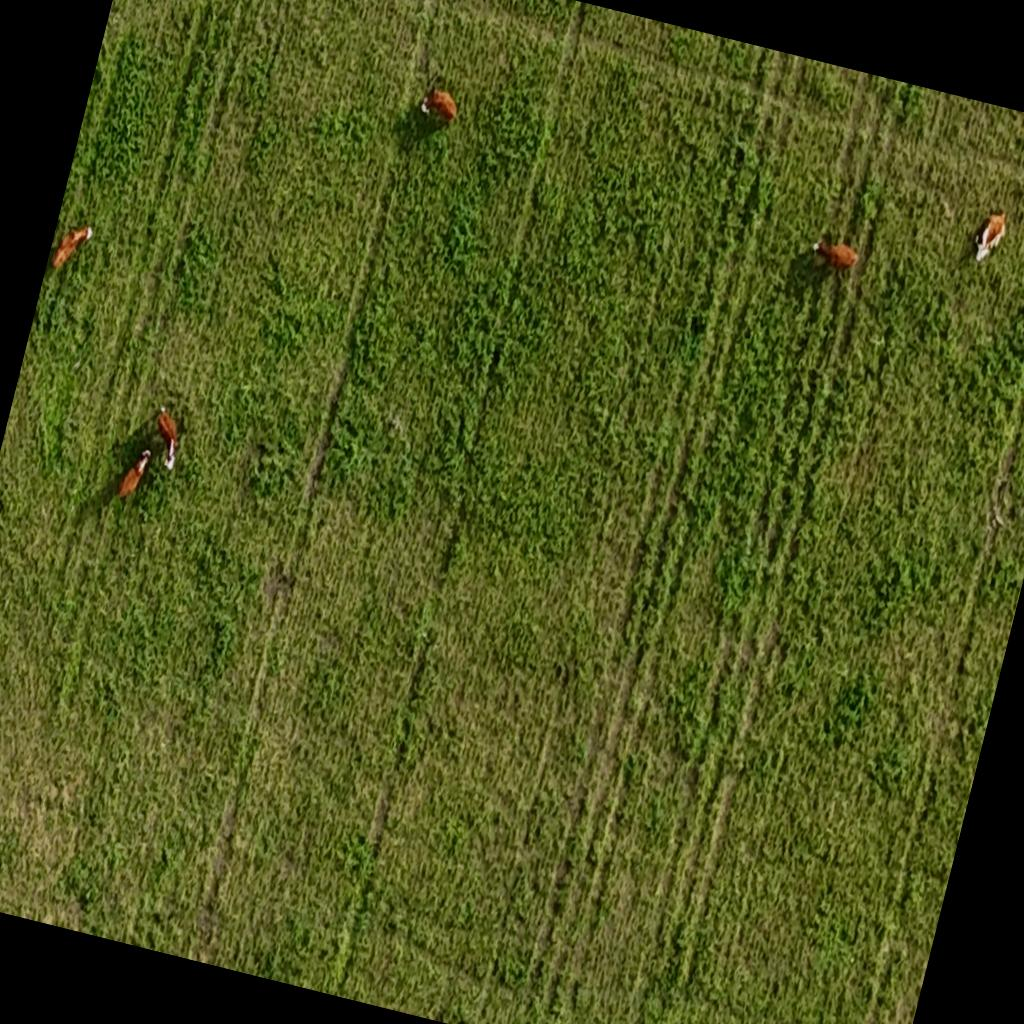cow: (44, 214, 100, 290), (412, 74, 468, 136), (805, 230, 865, 280), (144, 406, 187, 472), (968, 204, 1012, 268), (114, 442, 152, 506)
